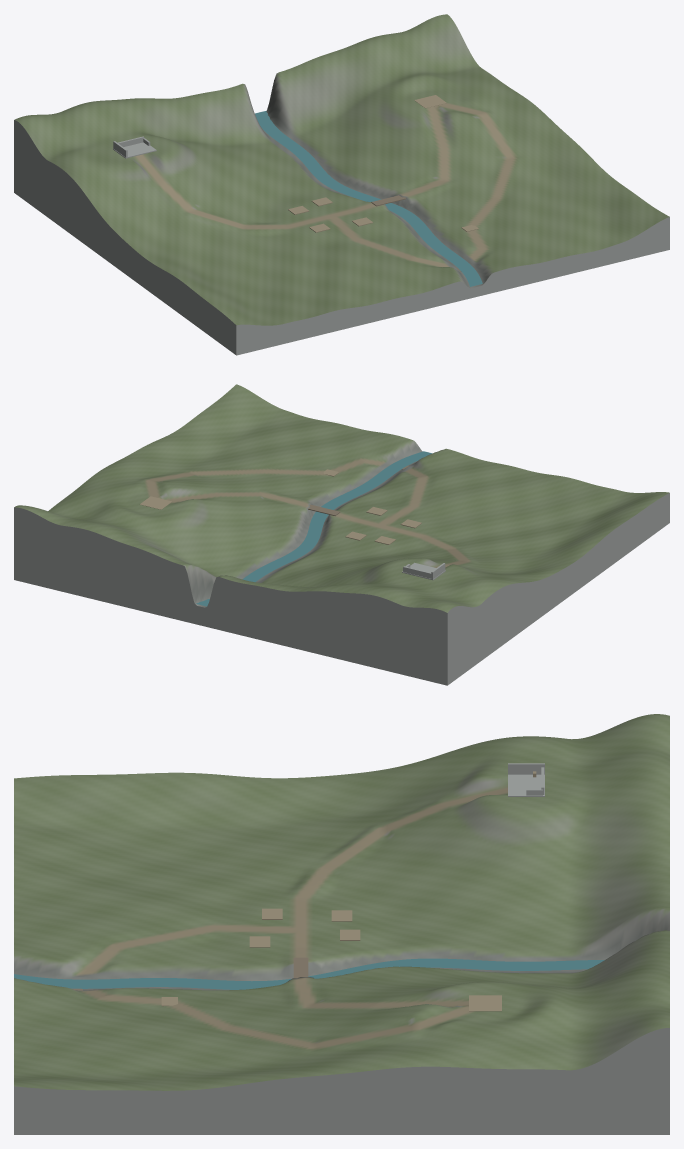
File: prologue_terrain.glb
The picture shows the model from 3 angles, top to bottom: view 1: azimuth 30°, elevation 25°; view 2: azimuth 150°, elevation 25°; view 3: azimuth 270°, elevation 25°; orthographic projection. The views are drawn at different scales.
Parts seen in each view (by area): view 1: Terrain_05_Eastern_Hills, Terrain_02_Descending_Slope, Terrain_03_Settlement_Terrace, Terrain_Outer_Skirt, Terrain_01_Ruins_Highland, Terrain_04_Creek_Bed, Water_Creek; view 2: Terrain_Outer_Skirt, Terrain_05_Eastern_Hills, Terrain_02_Descending_Slope, Terrain_03_Settlement_Terrace, Terrain_04_Creek_Bed, Terrain_01_Ruins_Highland, Water_Creek; view 3: Terrain_05_Eastern_Hills, Terrain_02_Descending_Slope, Terrain_Outer_Skirt, Terrain_03_Settlement_Terrace, Terrain_01_Ruins_Highland, Terrain_04_Creek_Bed, Water_Creek, Ruin_Foundation.
Part boxes in pixels (x1=…): Terrain_05_Eastern_Hills: x1=289, y1=14, x2=669, y2=267; Terrain_02_Descending_Slope: x1=104, y1=197, x2=390, y2=325; Terrain_03_Settlement_Terrace: x1=168, y1=69, x2=438, y2=245; Terrain_Outer_Skirt: x1=14, y1=120, x2=669, y2=355; Terrain_01_Ruins_Highland: x1=14, y1=98, x2=257, y2=219; Terrain_04_Creek_Bed: x1=318, y1=217, x2=510, y2=299; Water_Creek: x1=255, y1=110, x2=482, y2=286; Terrain_Outer_Skirt: x1=14, y1=493, x2=669, y2=685; Terrain_05_Eastern_Hills: x1=14, y1=384, x2=394, y2=569; Terrain_02_Descending_Slope: x1=385, y1=467, x2=669, y2=580; Terrain_03_Settlement_Terrace: x1=173, y1=490, x2=442, y2=607; Terrain_04_Creek_Bed: x1=323, y1=435, x2=515, y2=518; Terrain_01_Ruins_Highland: x1=294, y1=558, x2=537, y2=612; Water_Creek: x1=196, y1=451, x2=432, y2=606; Terrain_05_Eastern_Hills: x1=14, y1=937, x2=669, y2=1090; Terrain_02_Descending_Slope: x1=14, y1=766, x2=403, y2=907; Terrain_Outer_Skirt: x1=14, y1=1028, x2=669, y2=1134; Terrain_03_Settlement_Terrace: x1=227, y1=850, x2=669, y2=992; Terrain_01_Ruins_Highland: x1=403, y1=714, x2=669, y2=898; Terrain_04_Creek_Bed: x1=14, y1=902, x2=227, y2=996; Water_Creek: x1=14, y1=958, x2=604, y2=989; Ruin_Foundation: x1=508, y1=774, x2=544, y2=796.
Size of the model in its own units: 180 by 29.87 by 160.
